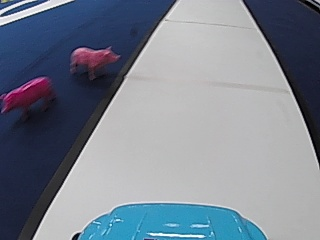pig: (1, 73, 56, 119), (70, 41, 121, 81)
